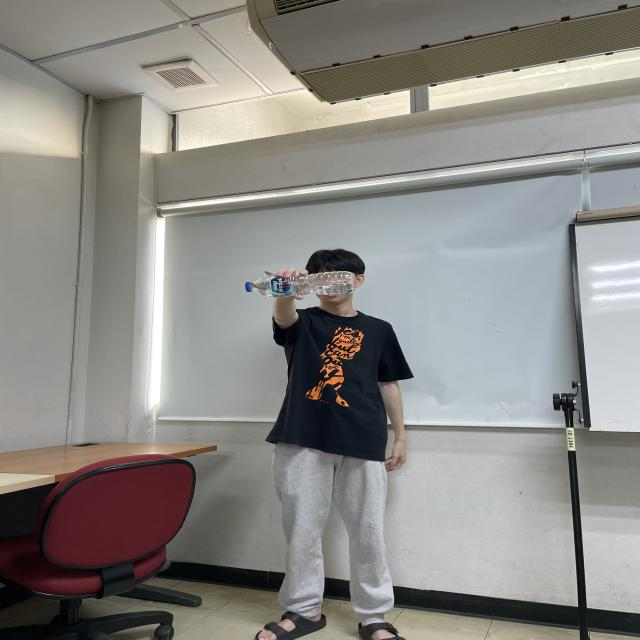bottle: (245, 271, 355, 298)
